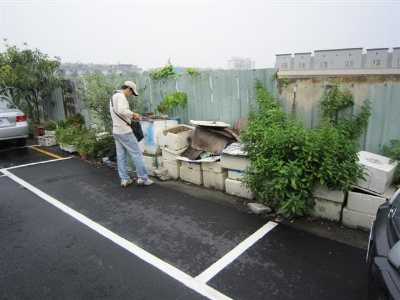styrofoam: (354, 150, 398, 194), (156, 123, 195, 150), (345, 192, 386, 214), (342, 208, 377, 233), (218, 153, 251, 172), (224, 179, 255, 199), (202, 170, 227, 191), (179, 166, 201, 186)
